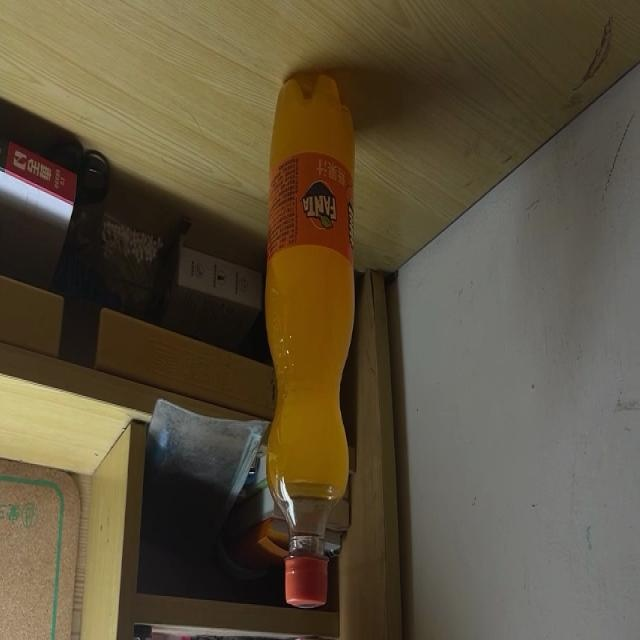Fanta: (264, 69, 355, 610)
